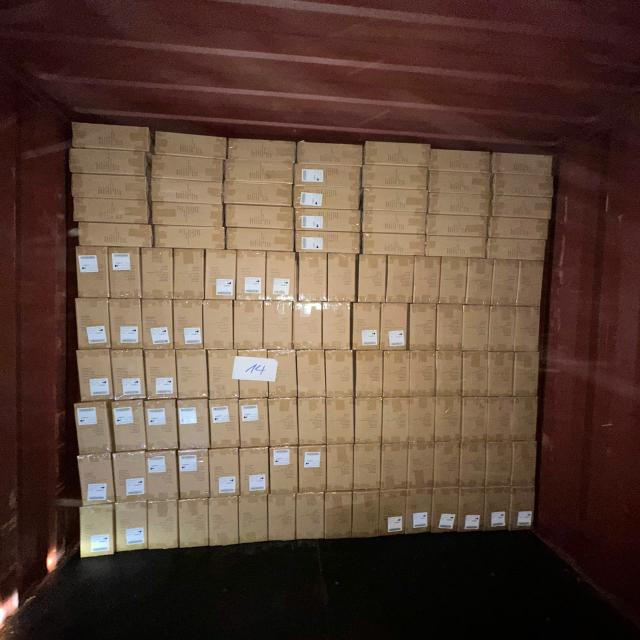Carton: (68, 122, 150, 154), (68, 147, 151, 176), (69, 175, 150, 204), (151, 154, 226, 184), (74, 198, 154, 225), (155, 132, 229, 161), (152, 178, 226, 207), (80, 221, 156, 248), (75, 402, 112, 456), (80, 505, 117, 559), (149, 202, 224, 228), (223, 180, 294, 207), (223, 160, 294, 187), (155, 224, 228, 250), (80, 351, 116, 403), (113, 401, 148, 454), (79, 453, 116, 503), (360, 164, 428, 191), (224, 204, 294, 230), (78, 297, 112, 349), (226, 138, 294, 164), (110, 248, 143, 301), (114, 502, 148, 553), (111, 351, 145, 402), (112, 453, 146, 504), (489, 175, 553, 202), (225, 228, 294, 253), (141, 250, 174, 302), (77, 248, 110, 300), (366, 142, 432, 168), (360, 189, 428, 214), (146, 401, 179, 452), (111, 298, 144, 349), (294, 187, 361, 212), (173, 250, 205, 302), (267, 252, 299, 304), (491, 152, 555, 178), (488, 196, 552, 222), (176, 400, 209, 450), (427, 192, 490, 218), (426, 147, 489, 173), (145, 351, 177, 402), (204, 251, 236, 302), (178, 449, 210, 500), (142, 298, 174, 349), (148, 450, 180, 501), (296, 167, 364, 191), (295, 144, 363, 168), (176, 351, 208, 401), (295, 232, 361, 256), (360, 210, 426, 234), (488, 215, 551, 240), (294, 209, 362, 232), (361, 234, 426, 258), (426, 174, 490, 198), (237, 252, 267, 303), (209, 449, 240, 498), (208, 400, 239, 449), (147, 501, 178, 550), (234, 301, 264, 351), (299, 254, 329, 304), (178, 499, 208, 549), (240, 399, 270, 449), (204, 301, 234, 351), (172, 300, 202, 350), (208, 351, 238, 401), (236, 350, 266, 400), (208, 499, 239, 547), (424, 214, 486, 238), (487, 238, 549, 262), (264, 302, 294, 351), (240, 447, 270, 496), (270, 446, 300, 495), (358, 255, 387, 305), (270, 398, 299, 448), (239, 497, 269, 545), (428, 235, 490, 258), (299, 398, 328, 447), (329, 255, 358, 304), (351, 303, 380, 352), (296, 495, 326, 542), (298, 350, 327, 398), (299, 446, 328, 494), (325, 350, 354, 398), (268, 352, 297, 400), (294, 302, 322, 351), (322, 303, 350, 352), (386, 256, 414, 305), (354, 350, 382, 398), (464, 259, 492, 307), (381, 303, 408, 352), (414, 257, 441, 306), (269, 496, 297, 543), (354, 398, 382, 445), (408, 306, 436, 353), (382, 398, 410, 445), (514, 306, 542, 353), (491, 260, 519, 307), (432, 489, 460, 536), (437, 304, 464, 352), (324, 493, 351, 541), (441, 258, 468, 306), (328, 398, 355, 446), (351, 492, 378, 540), (436, 350, 464, 396), (352, 444, 380, 490), (434, 442, 462, 488), (381, 443, 408, 490), (326, 445, 353, 492), (384, 350, 411, 397), (409, 352, 436, 399), (379, 492, 406, 539), (512, 441, 539, 488), (518, 261, 546, 306), (408, 398, 436, 443), (436, 397, 463, 443), (462, 306, 489, 352), (488, 306, 515, 352), (487, 397, 514, 443), (512, 396, 539, 442), (484, 489, 511, 534), (486, 442, 512, 488), (459, 442, 485, 488), (409, 442, 435, 488), (458, 489, 484, 535), (513, 352, 540, 396), (407, 490, 432, 537), (488, 353, 514, 398), (511, 487, 537, 532), (462, 353, 487, 399), (461, 398, 487, 442)
